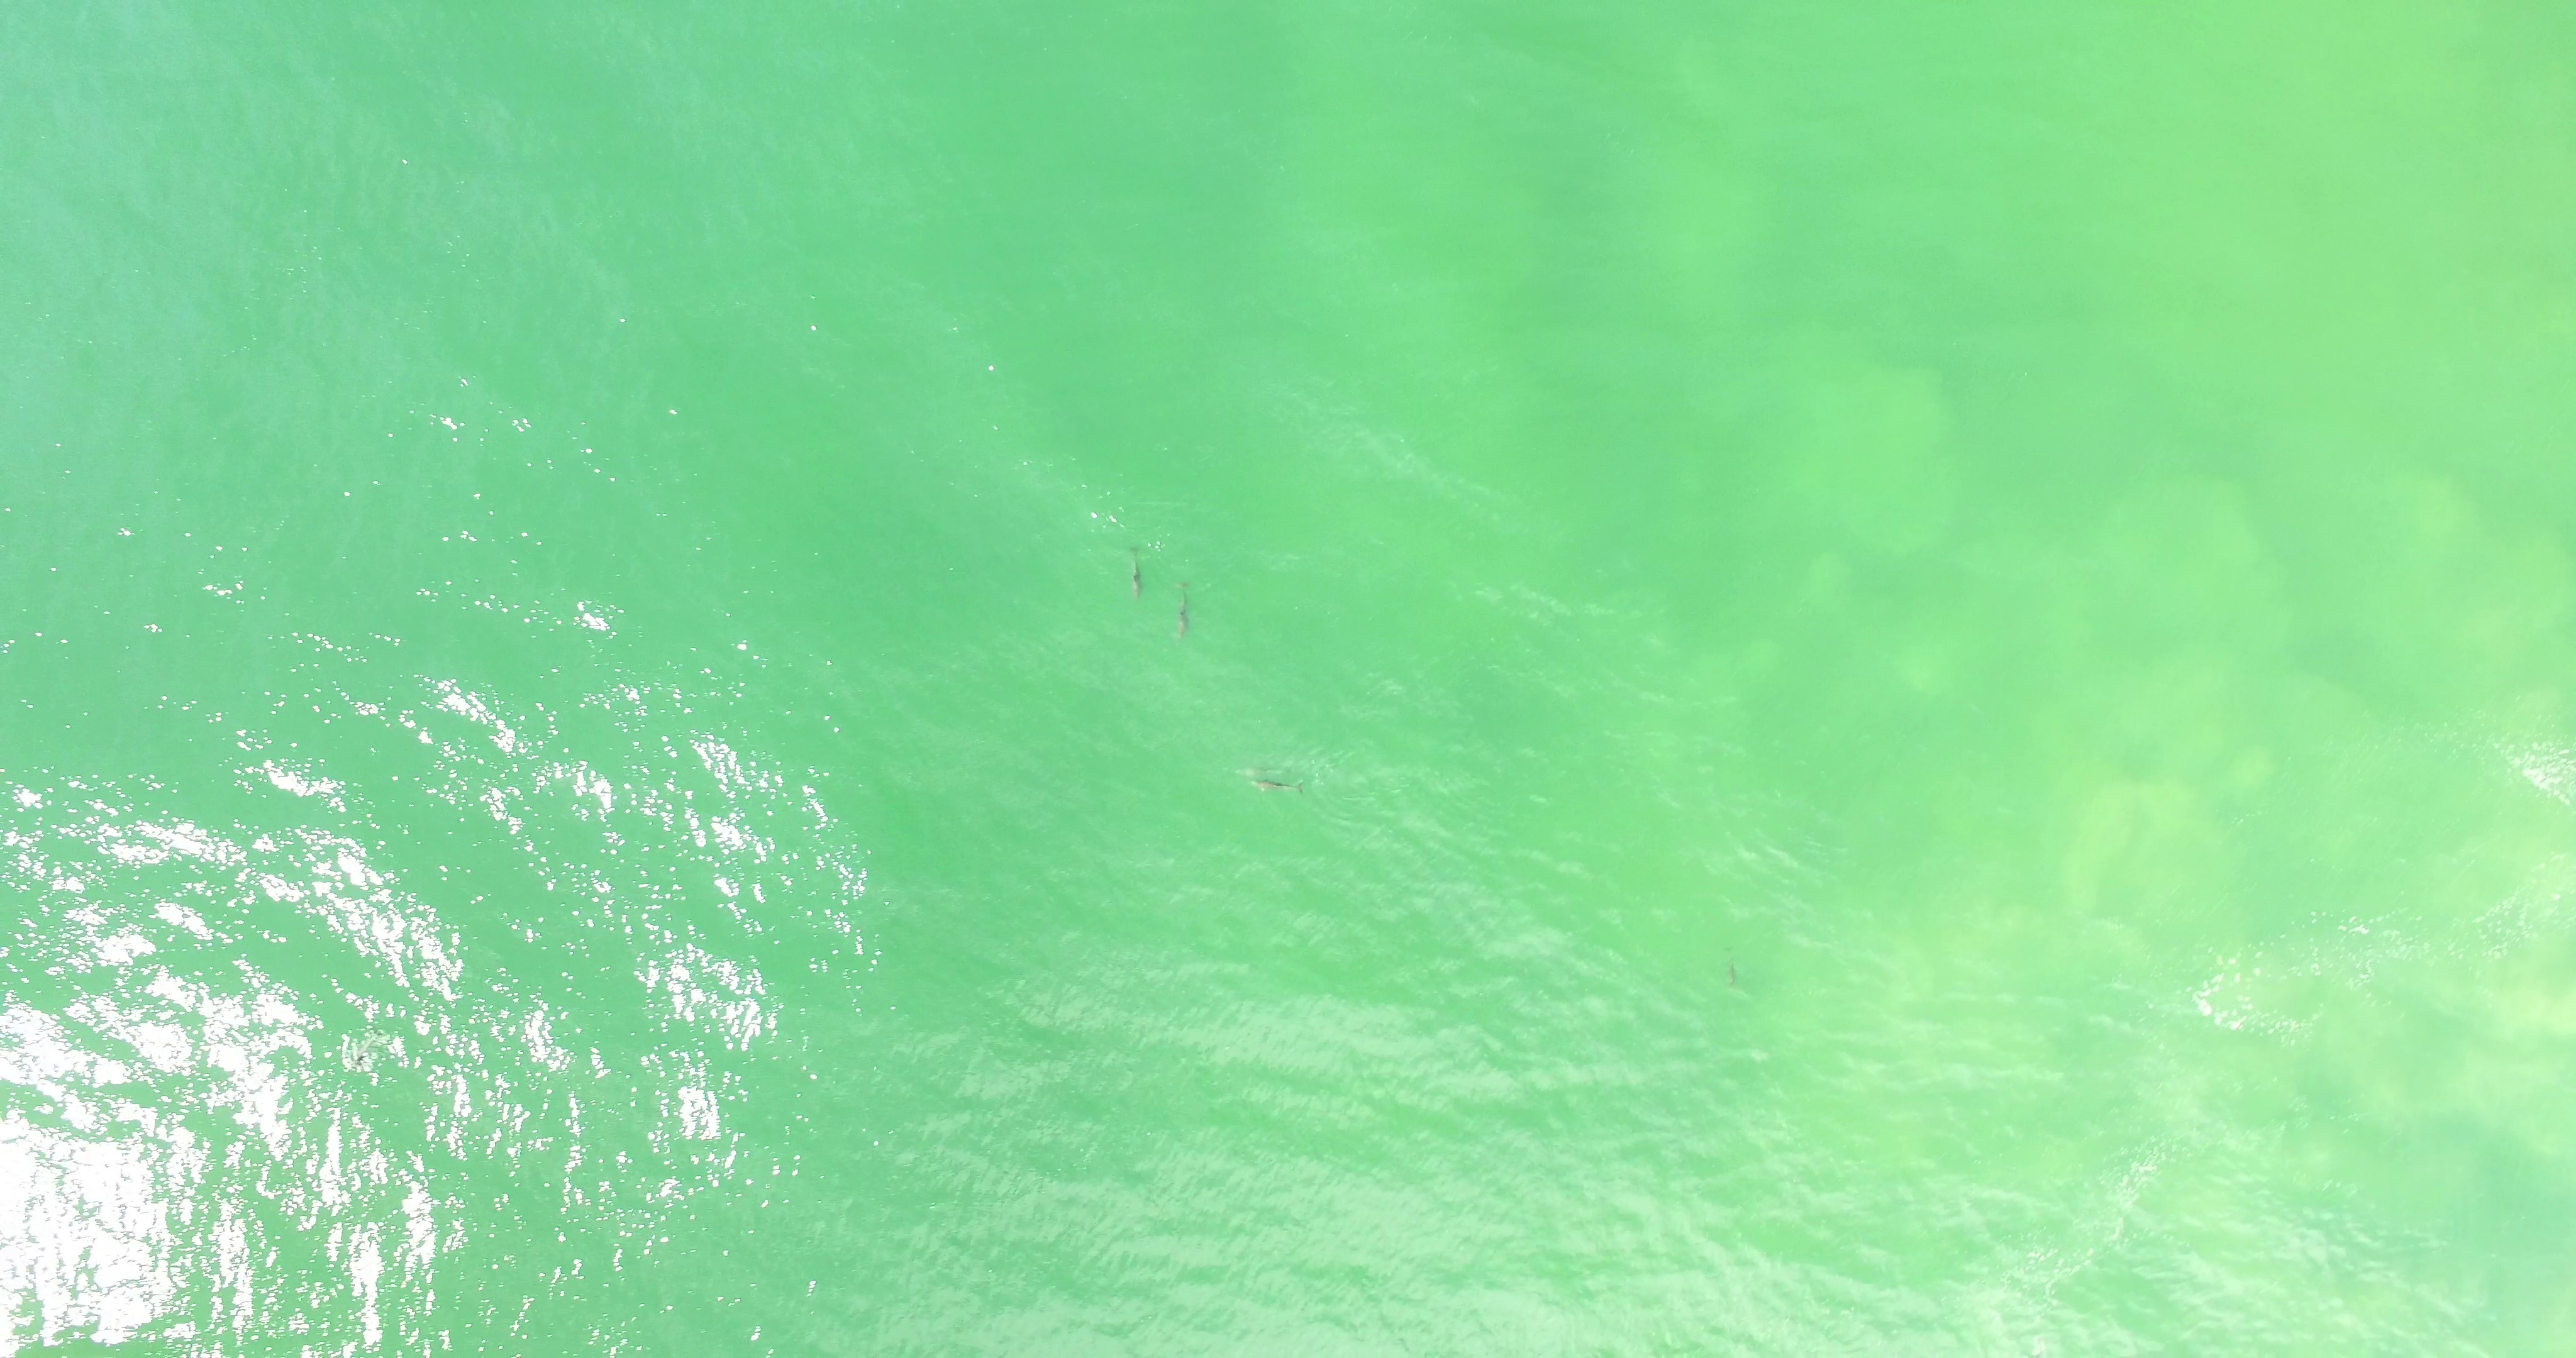dolphin: (1230, 757, 1295, 780), (1247, 774, 1310, 797), (346, 1029, 382, 1070), (1123, 544, 1147, 596), (1176, 578, 1193, 637), (1717, 946, 1739, 990)
